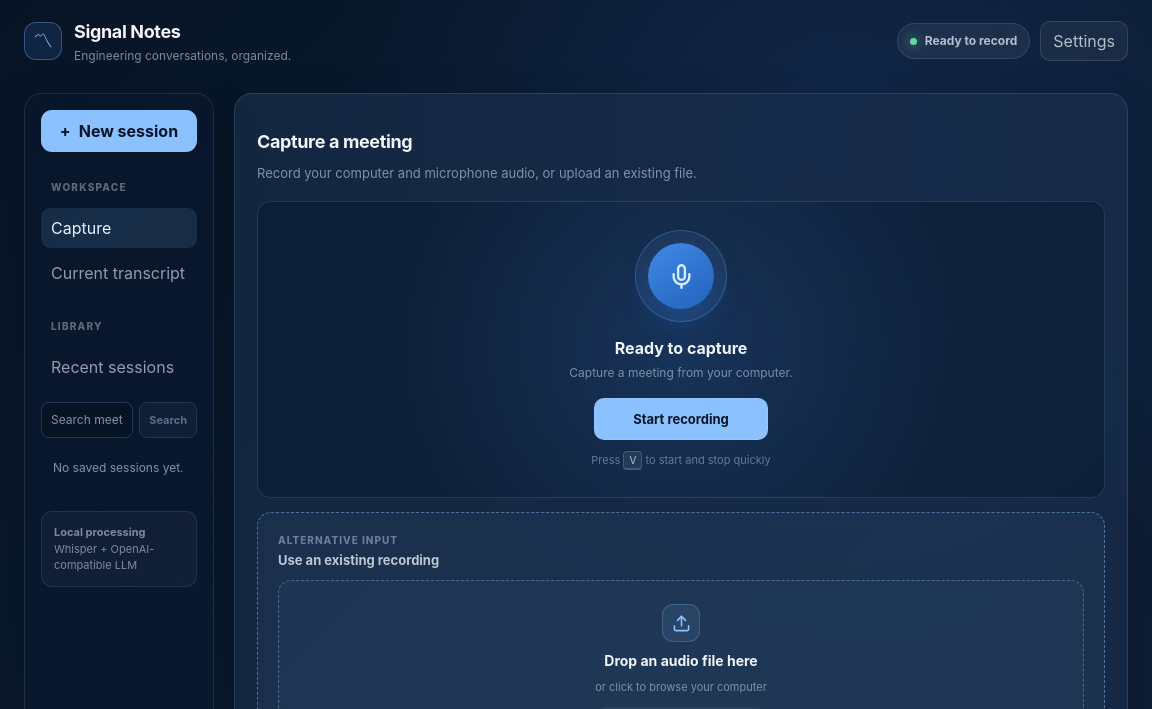
Test: App live transcript editor › shows empty and error states for backend meeting searches
Type "no matches" into the field named "Search saved meetings" at x=87, y=420, box [41,402,133,438]
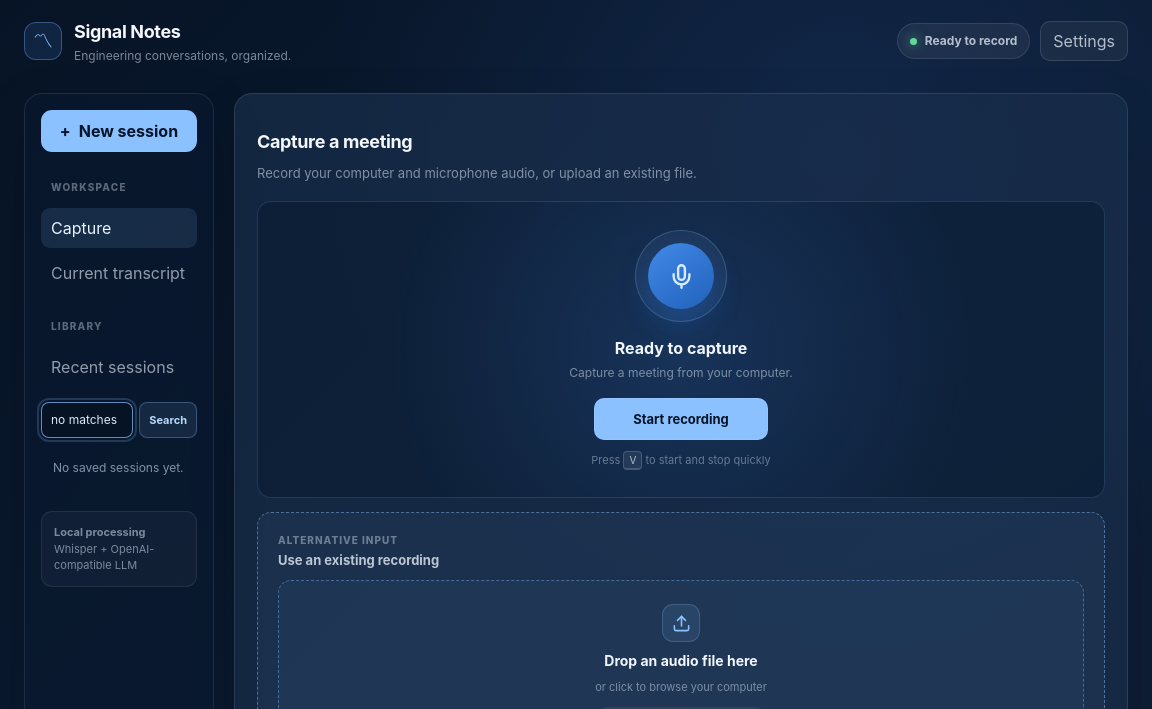
Click the button "Search" at x=168, y=420, box [139,402,197,438]
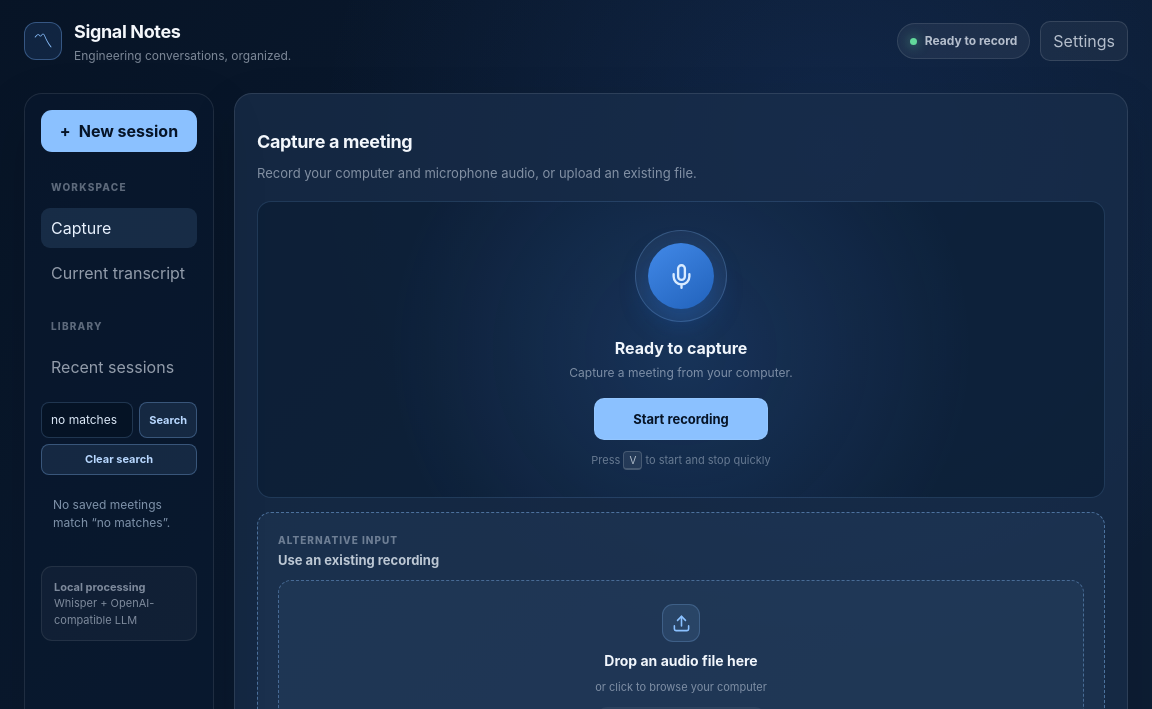
Expected: the text "No saved meetings match “no matches”." is shown, [53,496,170,530]
Replace the text in the field named "Search saved meetings" with "unavailable" at x=87, y=420, box [41,402,133,438]
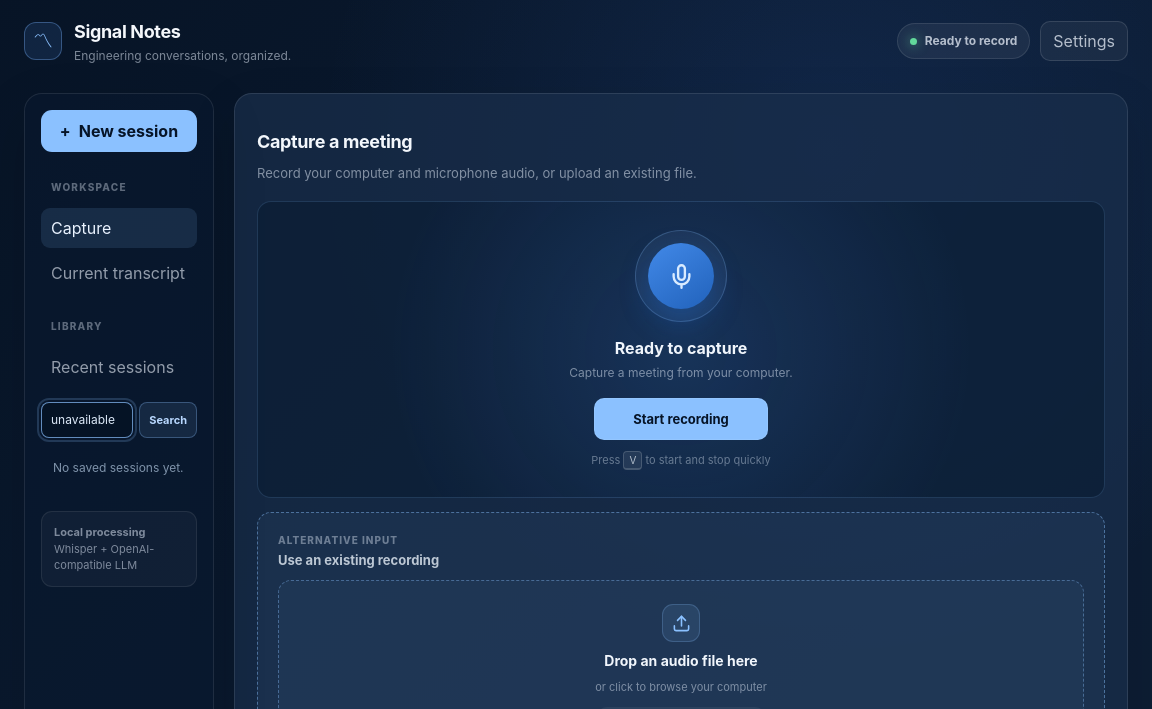
Click the button "Search" at x=168, y=420, box [139,402,197,438]
(page scrolled)
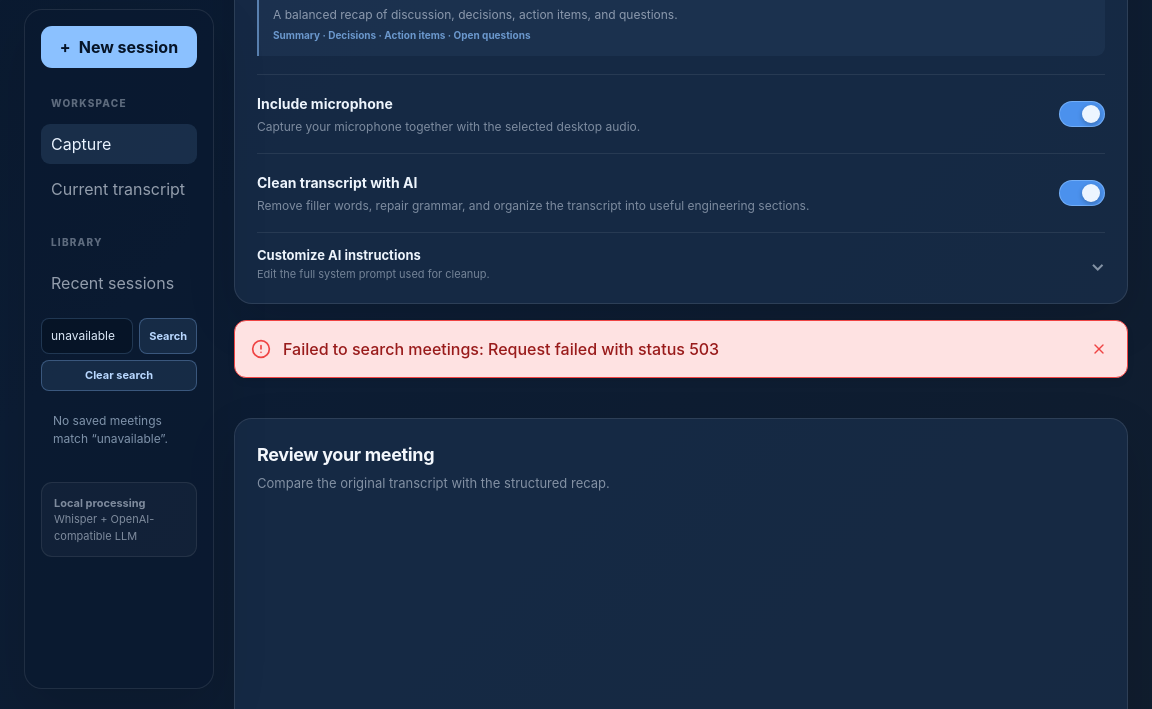
Expected: the text "Failed to search meetings: Request failed with status 503" is shown, [283,337,719,361]
